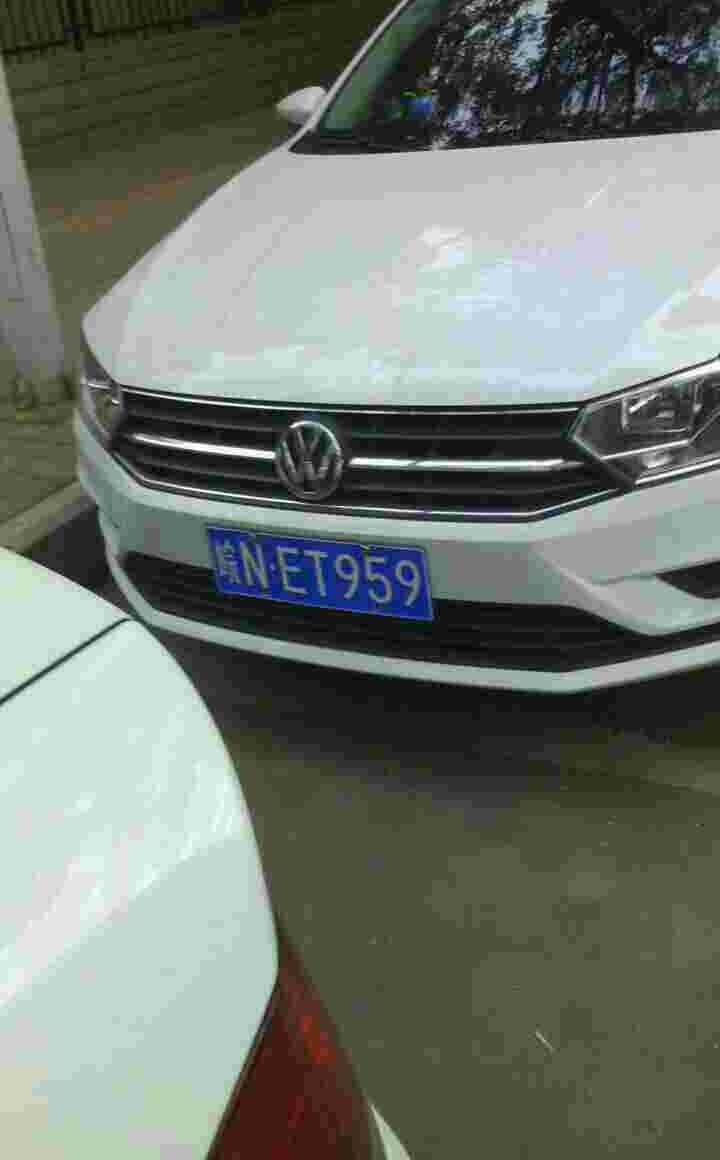license_plate: (206, 526, 450, 630)
